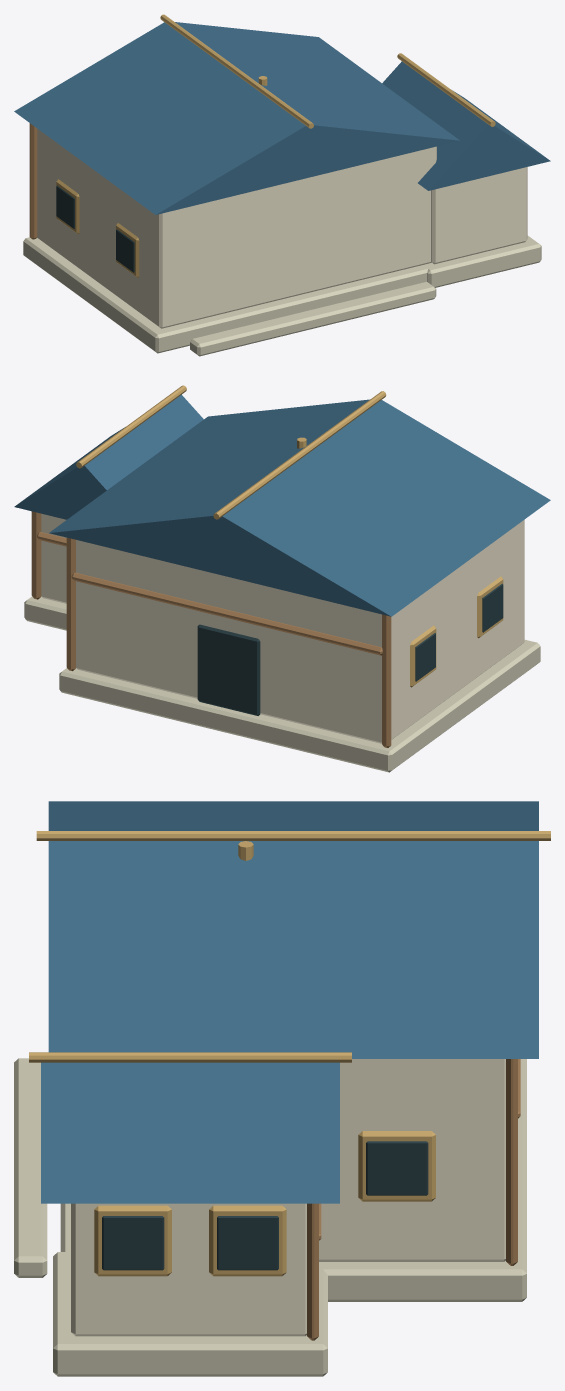
File: level_08.glb
3 renders of one model, top to bottom at view 1: azimuth 30°, elevation 25°; view 2: azimuth 150°, elevation 25°; view 3: azimuth 270°, elevation 25°, orthographic. The views are drawn at different scales.
Visible parts, largest first — view 1: warehouse — level 08; view 2: warehouse — level 08; view 3: warehouse — level 08.
Boxes of the visible parts, box(x1,y1,x2,y2) form: warehouse — level 08: box(14, 14, 550, 356); warehouse — level 08: box(14, 385, 550, 772); warehouse — level 08: box(14, 801, 550, 1376).
Size of the model in its own units: 6.57 by 3.21 by 4.49.
